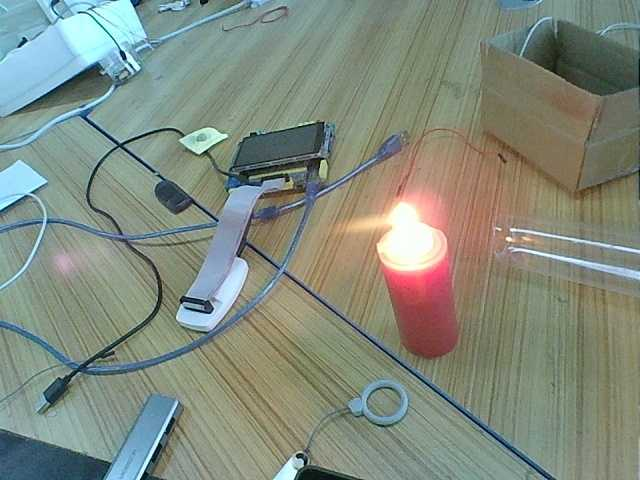candle: (377, 254, 458, 365)
fire: (370, 195, 435, 254)
